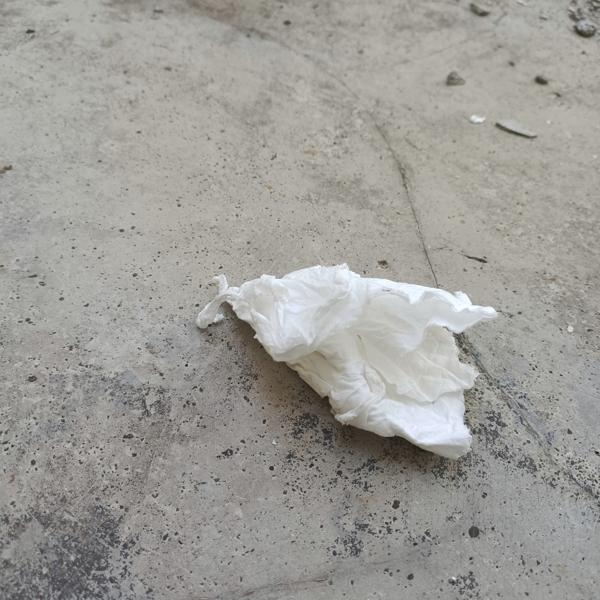Organik: (190, 232, 493, 502)
